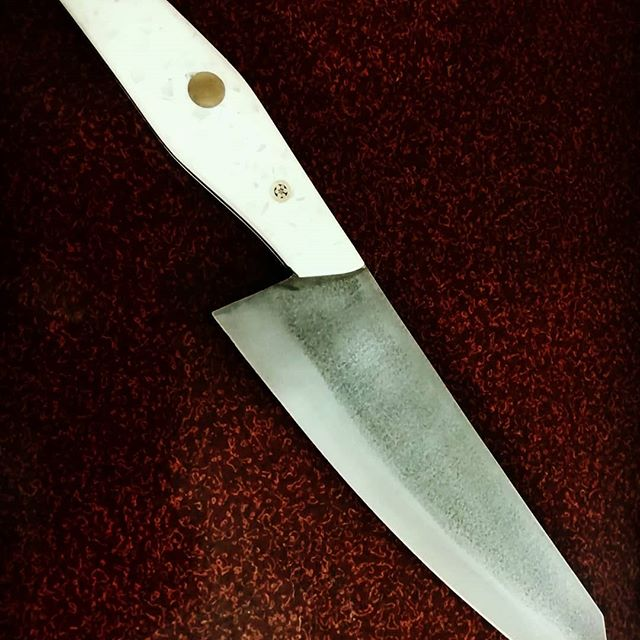knife: (58, 1, 607, 640)
